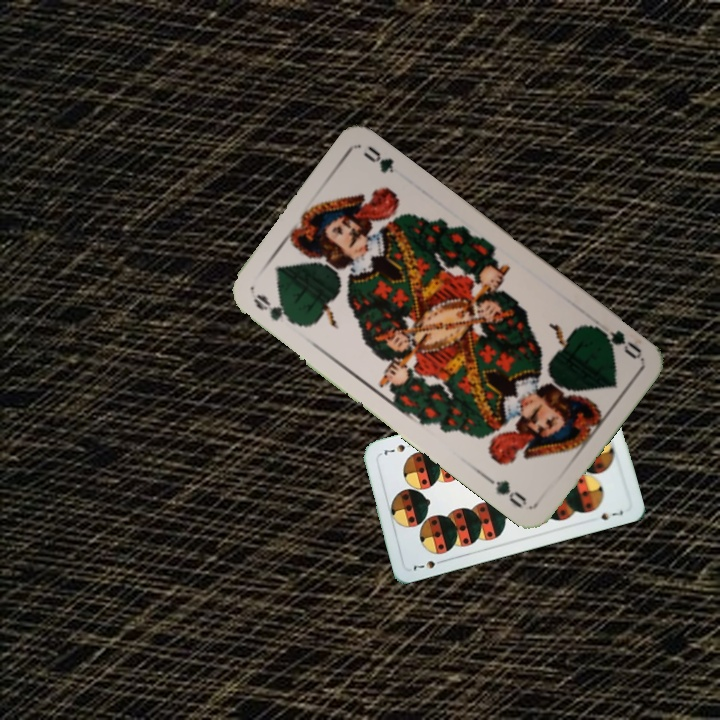GO: (589, 321, 644, 362), (249, 290, 302, 328)
S7: (409, 555, 447, 574)
